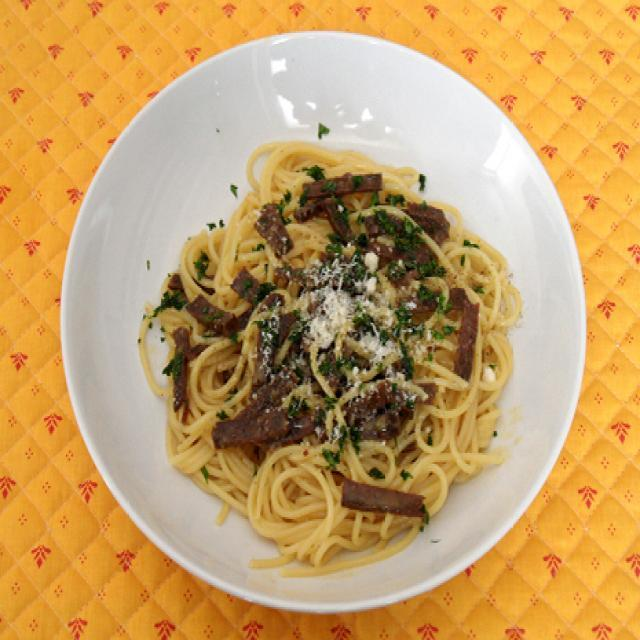Pasta with carbonara sauce: (102, 99, 584, 579)
